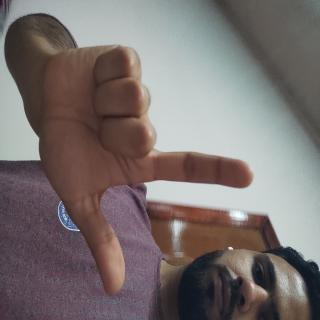LAAM: (26, 83, 225, 320)
